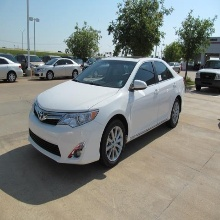no damage: (29, 58, 183, 168), (34, 56, 83, 84), (196, 55, 220, 95), (1, 54, 22, 84)
